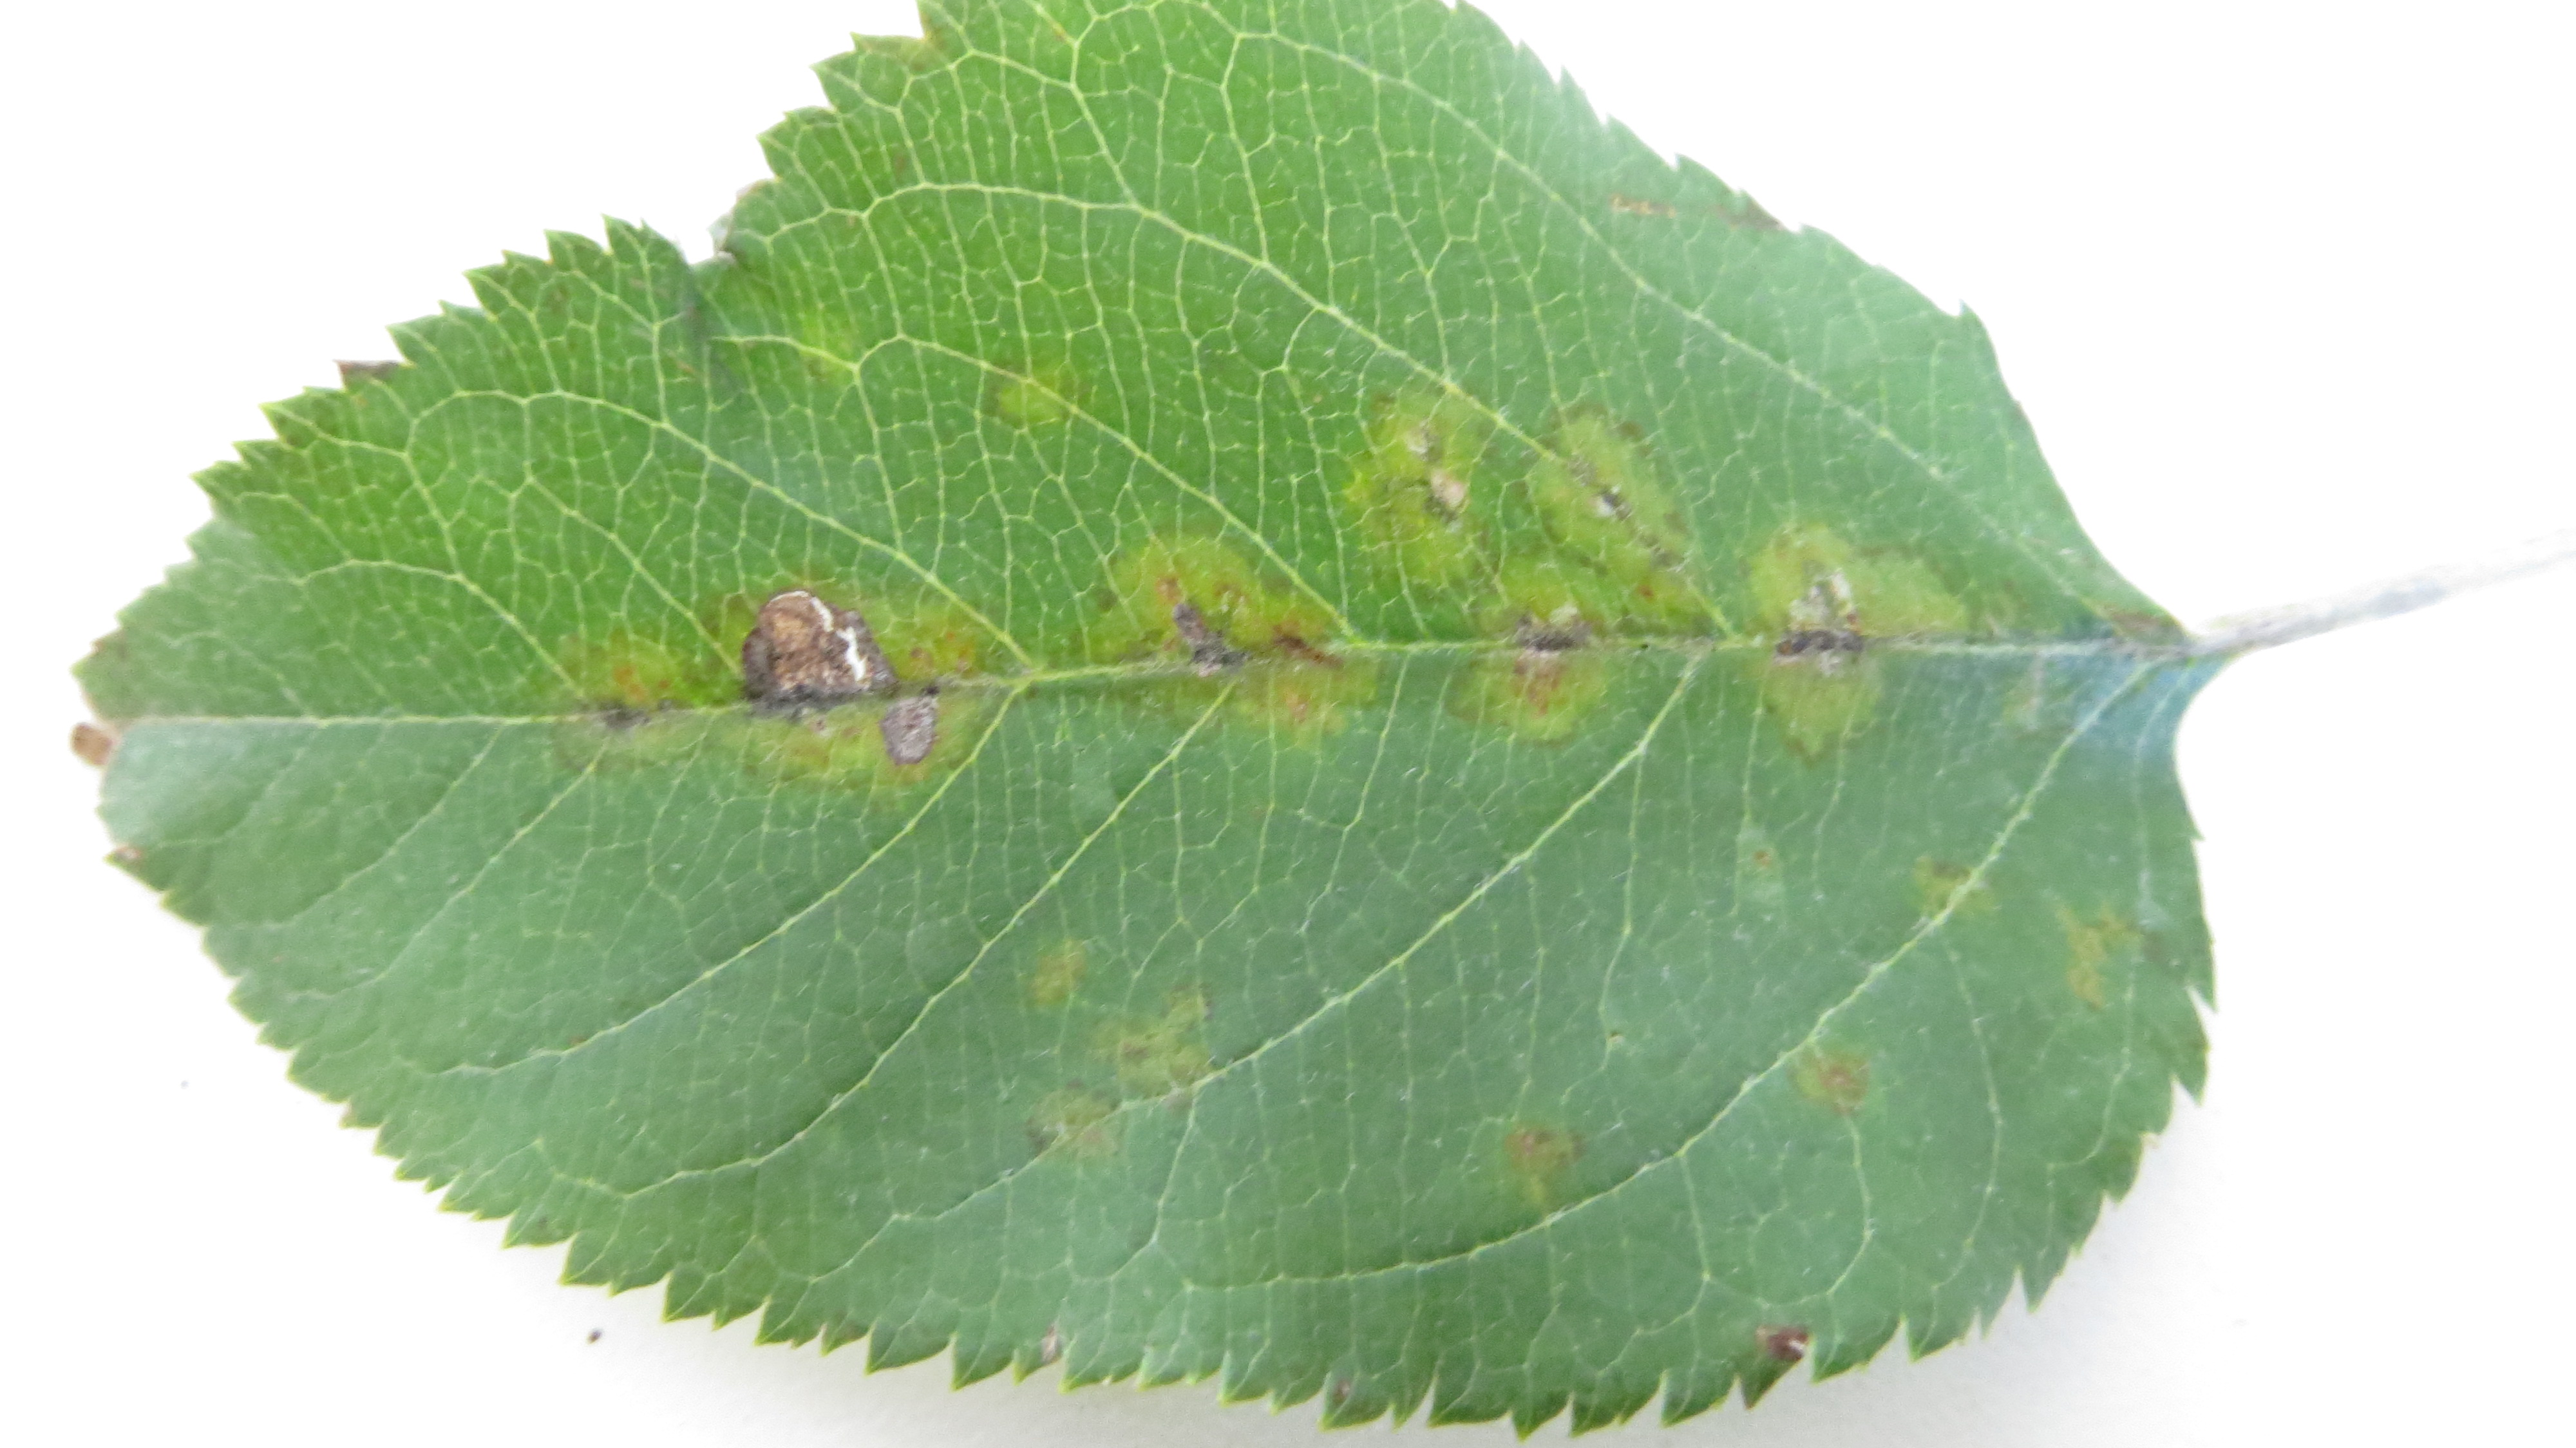sarna: (1092, 520, 1369, 774), (717, 570, 1000, 797), (1739, 519, 1983, 770), (1016, 919, 1226, 1172), (1522, 395, 1709, 611), (1346, 359, 1506, 612), (531, 614, 724, 797), (1467, 558, 1626, 752), (1458, 1090, 1612, 1234), (2056, 867, 2162, 1027), (984, 329, 1083, 448), (1900, 846, 2005, 944), (1796, 1039, 1890, 1144)
